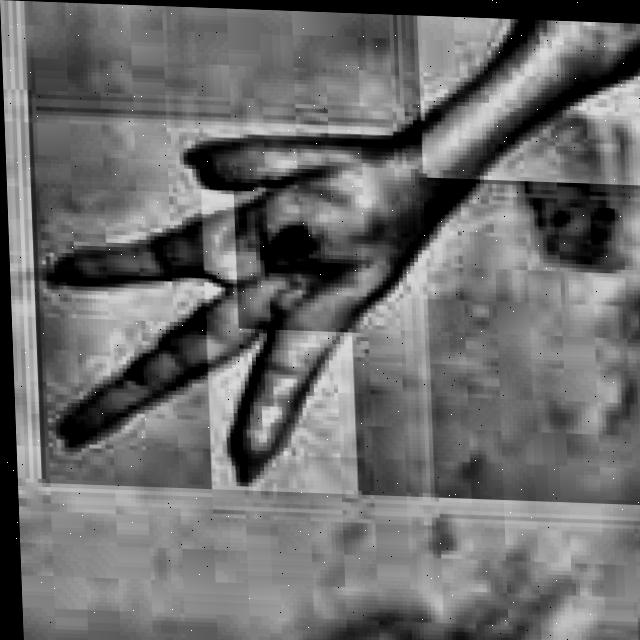Bumble foot: (32, 1, 640, 493), (262, 214, 315, 260)
